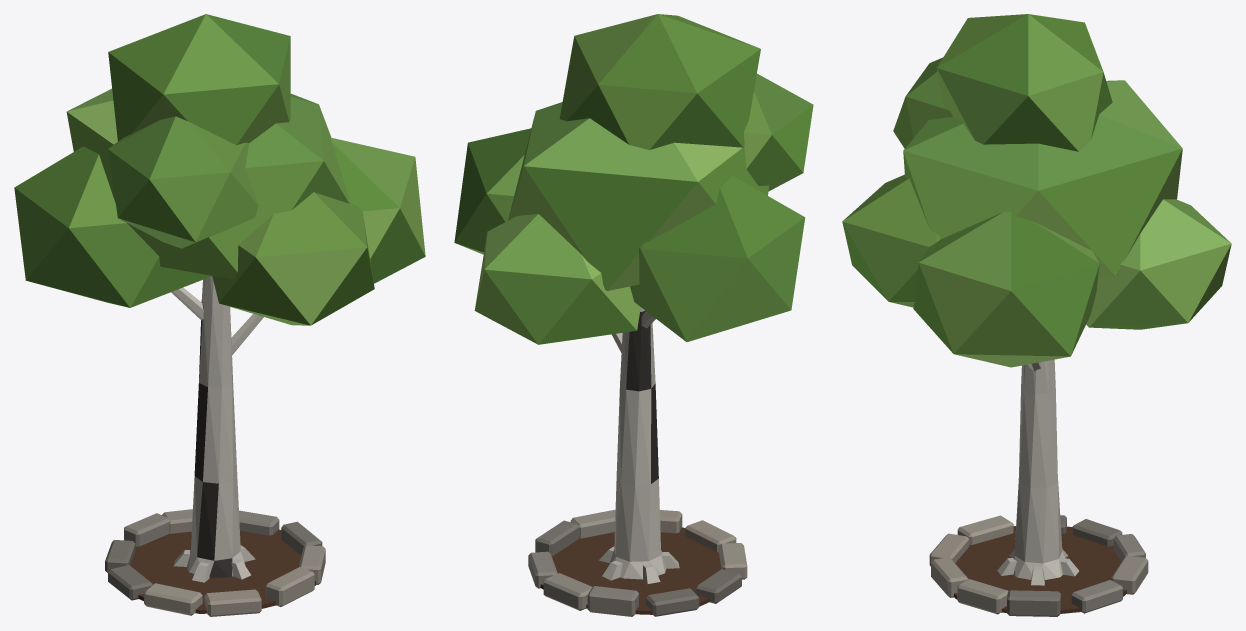
Rendered from TownTree.glb.
3 views of the same model, side by side, from view 1: azimuth 30°, elevation 25°; view 2: azimuth 150°, elevation 25°; view 3: azimuth 270°, elevation 25° (orthographic). The views are drawn at different scales.
Parts seen in each view (by area): view 1: Crown, Body; view 2: Crown, Body; view 3: Crown, Body.
Part boxes in pixels (x1,y1,x2,y2): Crown: (14, 14, 425, 325); Body: (105, 276, 325, 616); Crown: (454, 14, 813, 344); Body: (528, 307, 747, 616); Crown: (842, 14, 1231, 367); Body: (929, 359, 1148, 616).
Size of what is drawn, in the model's own units: 11.91 by 17.93 by 11.46.
